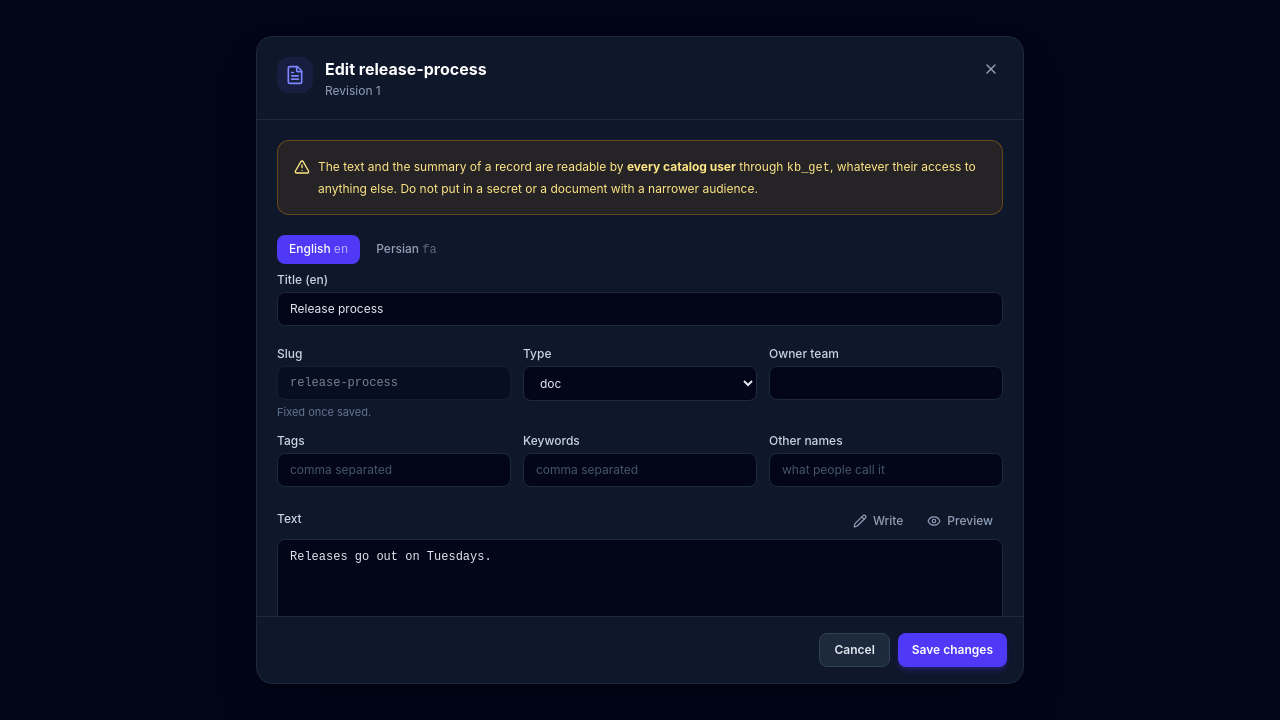
Test case: FormEditorModal › shows the server’s reason when it refuses
Click the button "Save changes" at (952, 650), box [898,633,1007,667]
(page scrolled)
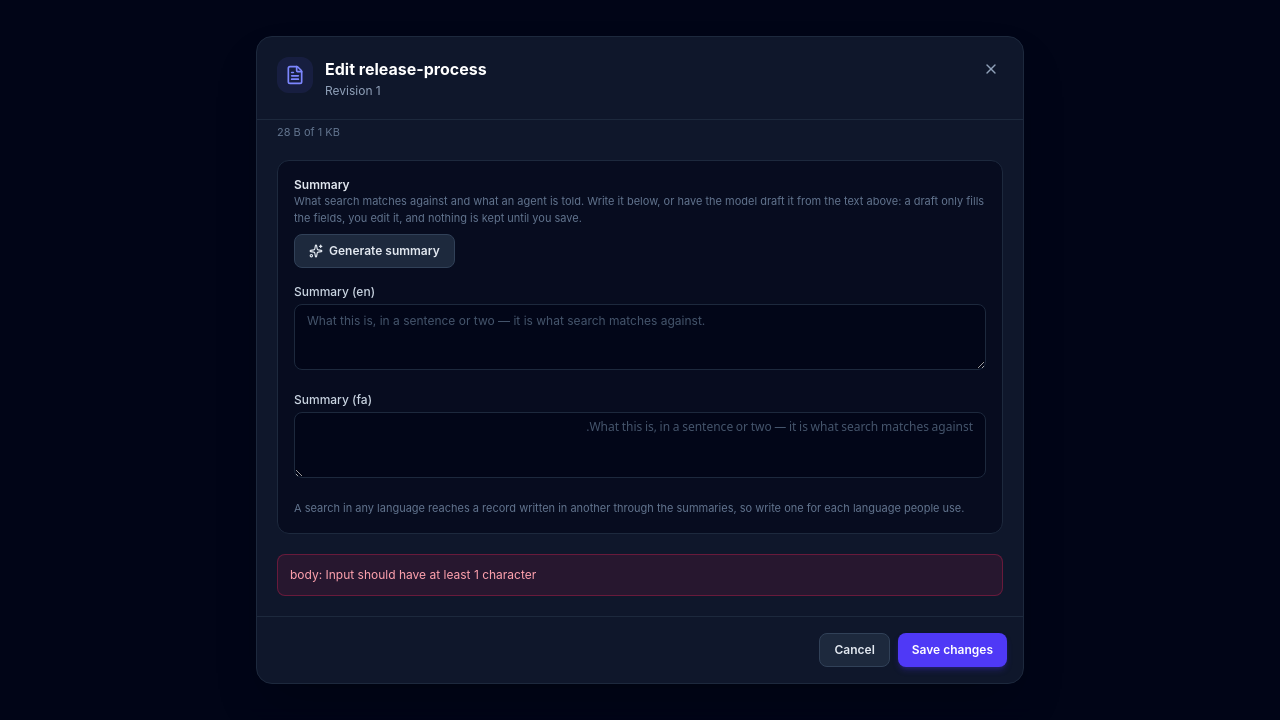
Now the message shows "at least 1 character", box [290,566,536,582]
